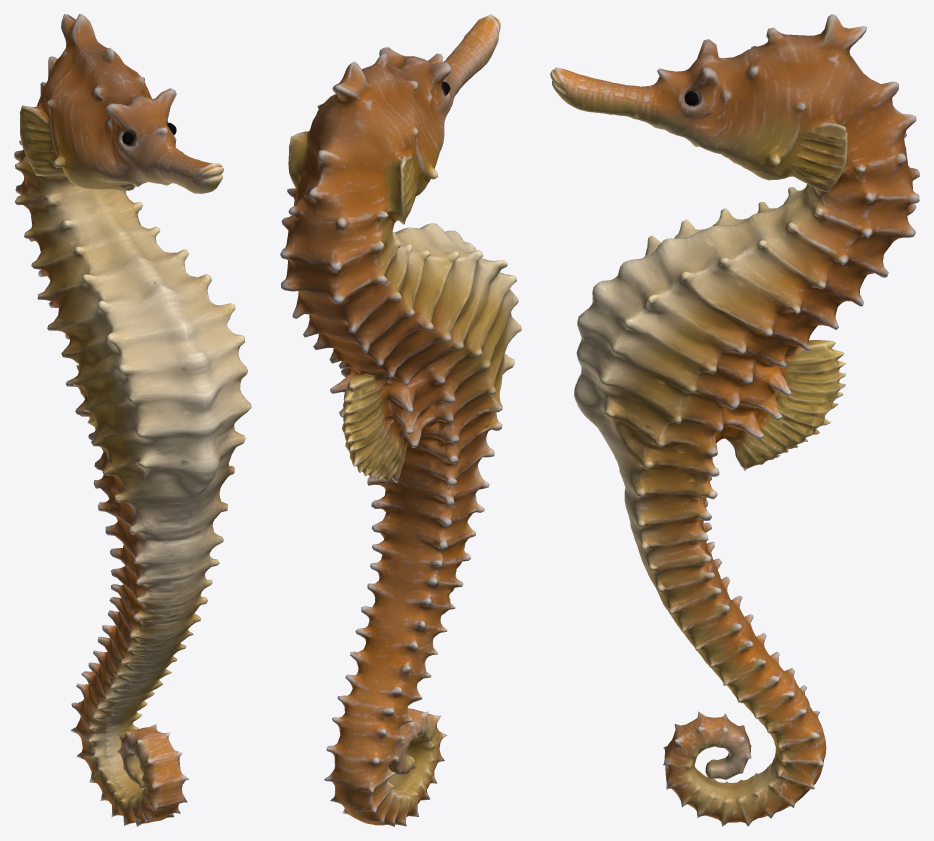
Rendered from MZ4250 - Seahorse.glb.
The picture shows the model from 3 angles, left to right: view 1: azimuth 30°, elevation 25°; view 2: azimuth 150°, elevation 25°; view 3: azimuth 270°, elevation 25°; orthographic projection. The views are drawn at different scales.
Parts seen in each view (by area): view 1: Giant Seahorse.001; view 2: Giant Seahorse.001; view 3: Giant Seahorse.001.
Boxes of the visible parts, x1,y1,x2,y2 form: Giant Seahorse.001: (14,14,251,826); Giant Seahorse.001: (280,14,521,826); Giant Seahorse.001: (550,14,919,826).
Bounding box in the file's own units: 4.69 × 24.78 × 10.37.
Materials: 1 (1 with a texture image).
